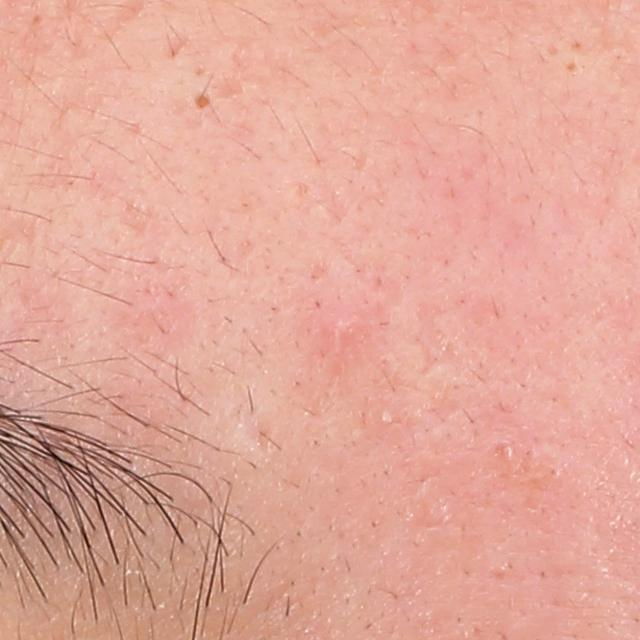atrophic_scar: (207, 46, 283, 100), (412, 286, 456, 373), (159, 28, 197, 58)
comedo: (186, 86, 218, 121)
papule: (323, 307, 365, 355)
